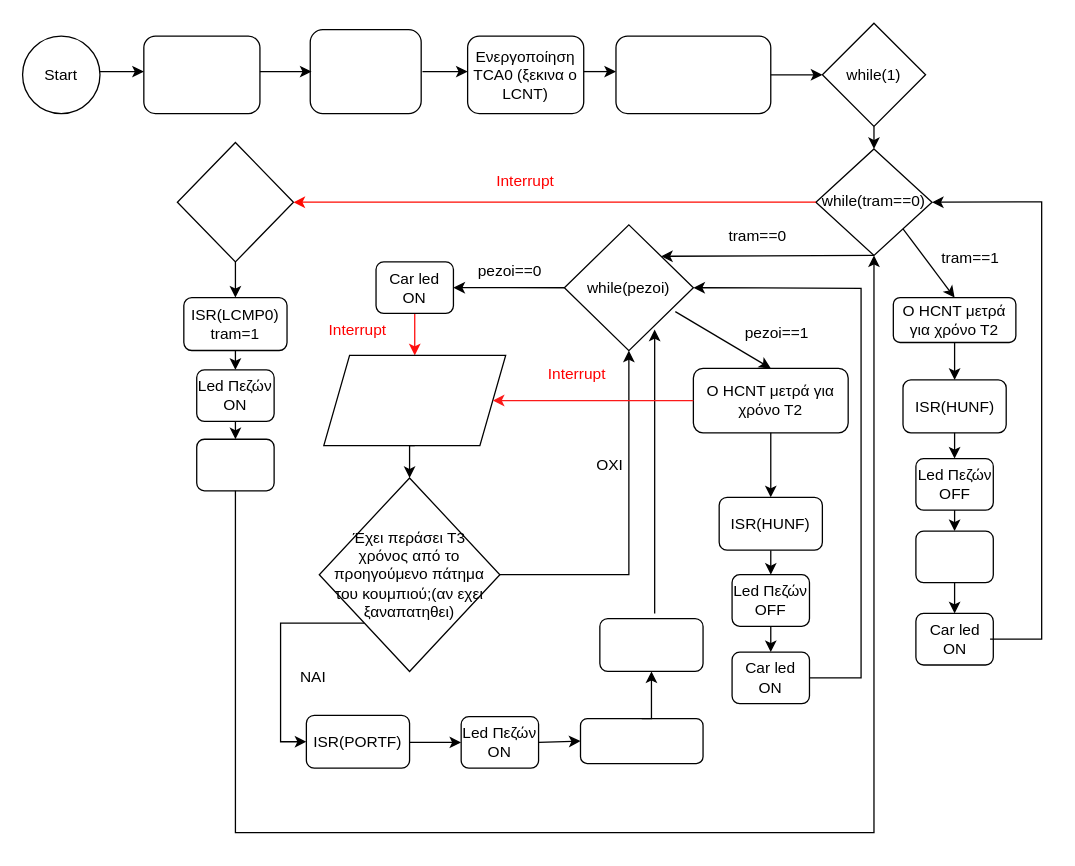
Some shapes in this 1075 by 866 pixel diagram are drawn without their labels. The shapes that lost their labels are listed below. From the top down, each one's centre as x and y in pixels, then its label:
point (201, 74): Αρχικοποίηση των LEDs & Pin5 τουPORTF
point (365, 71): Αρχικοποίηση LCNT(Τ1 για τραμ)
point (693, 74): Καθορισμός των αποδεκτών interrupts μέσω του INTCTRL
point (234, 201): Έχει περάσει χρόνος Τ1;
point (414, 400): Ενεργοποίηση Pin5 PORTF
point (234, 464): Led Τραμ ON
point (954, 556): Led Tram OFF
point (651, 644): ISR(HUNF) pezoi=1
point (641, 740): O HCNT μετρά για χρόνο Τ3
